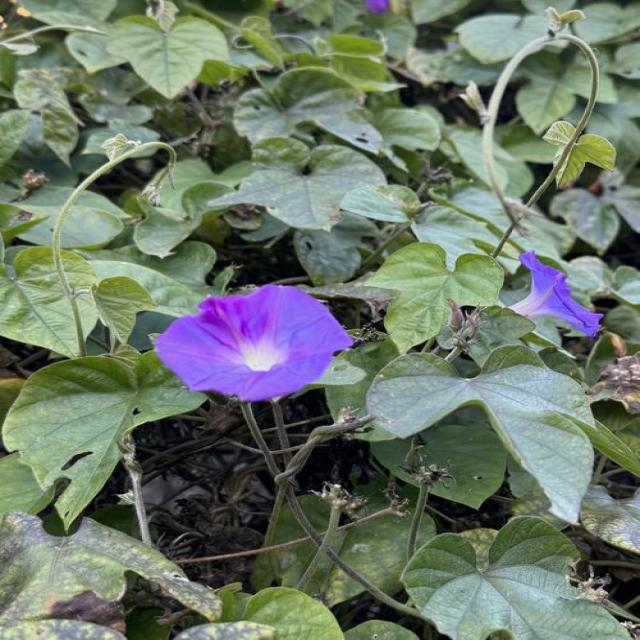ipomoea: (148, 281, 356, 405), (502, 248, 606, 340)
